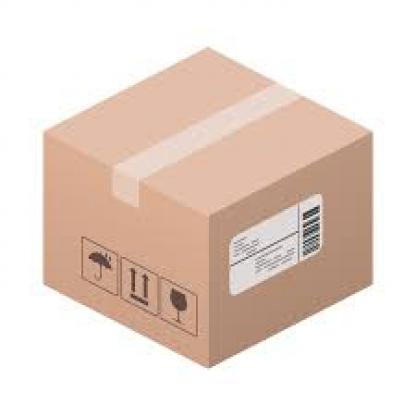paquete: (20, 13, 398, 372)
